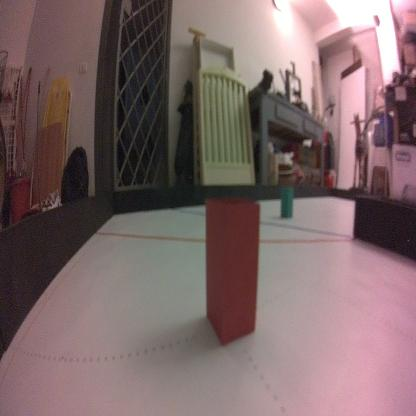green: (280, 184, 295, 221)
red: (204, 187, 261, 345)
